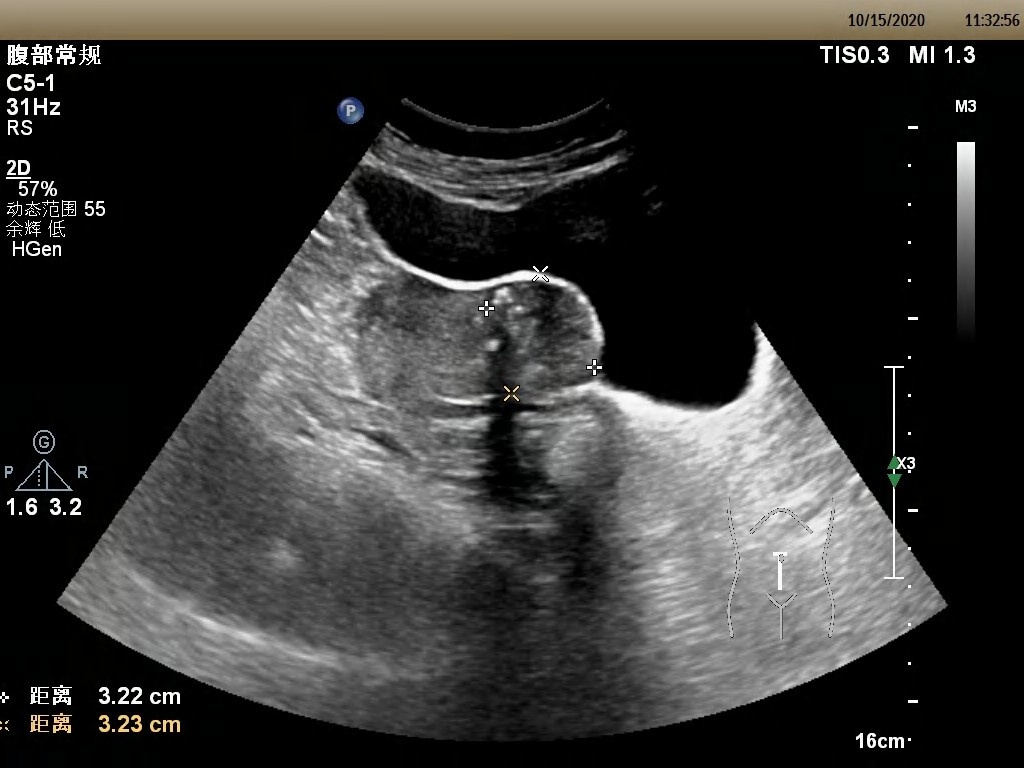肌瘤: (486, 274, 599, 398)
